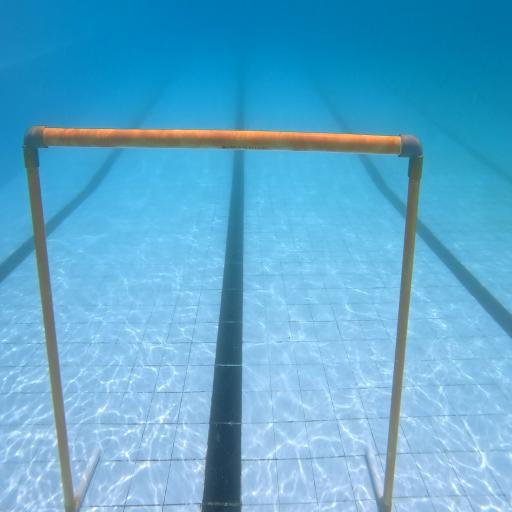gate: (23, 125, 422, 512)
